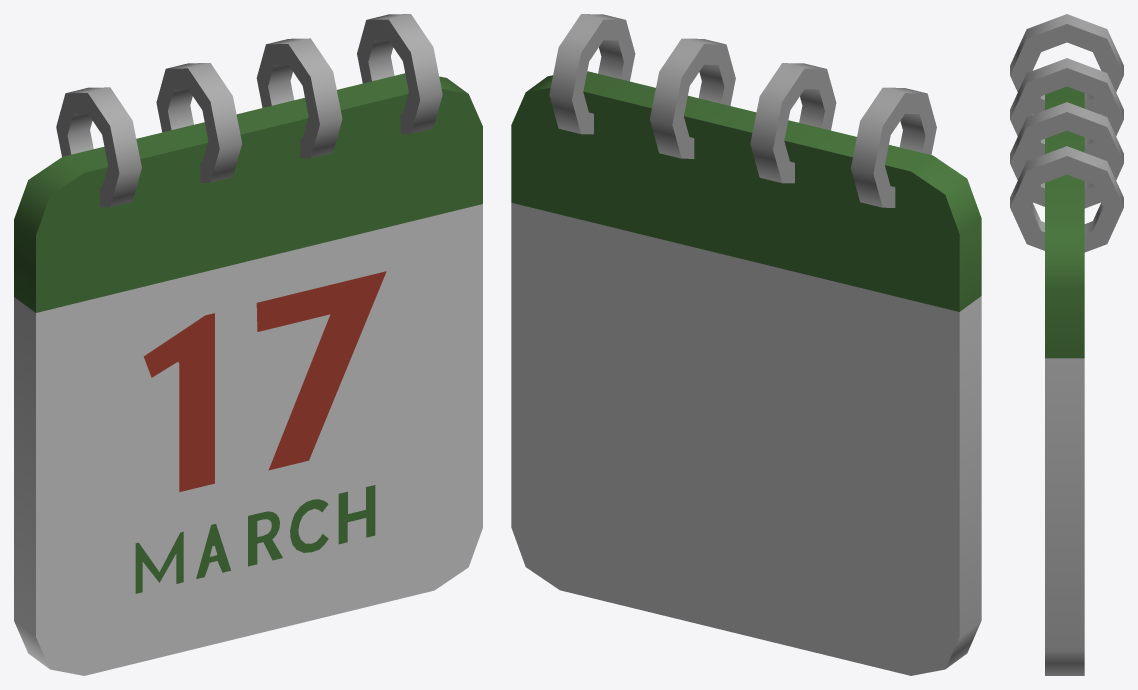
The model's file is Calendar_01.fbx.
The picture shows the model from 3 angles, left to right: view 1: azimuth 30°, elevation 25°; view 2: azimuth 150°, elevation 25°; view 3: azimuth 270°, elevation 25°; orthographic projection. The views are drawn at different scales.
Parts seen in each view (by area): view 1: Calendar_01; view 2: Calendar_01; view 3: Calendar_01.
Part boxes in pixels (<box>): Calendar_01: <box>14,14,482,675</box>; Calendar_01: <box>511,14,981,675</box>; Calendar_01: <box>1010,14,1123,675</box>.
Size of the model in its own units: 0.2236 by 0.2727 by 0.0549.
